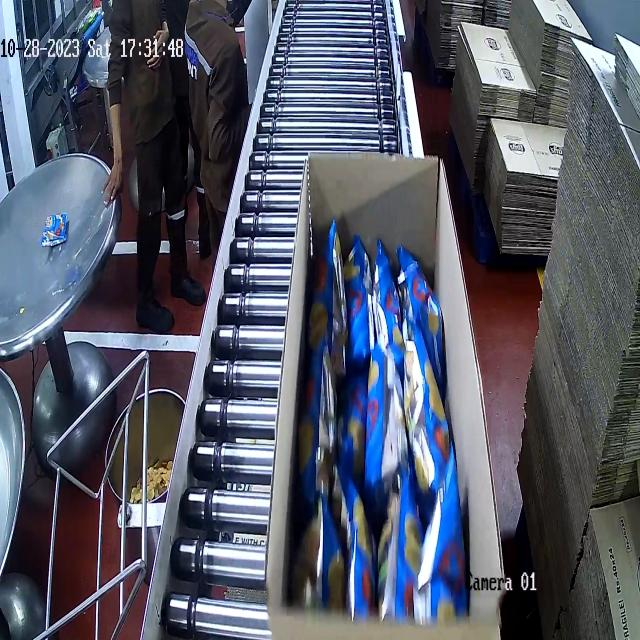PAPRIKA: (310, 230, 470, 617)
